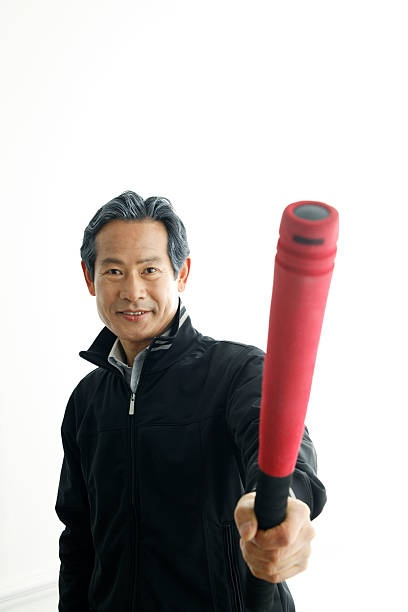bita: (254, 204, 338, 551)
